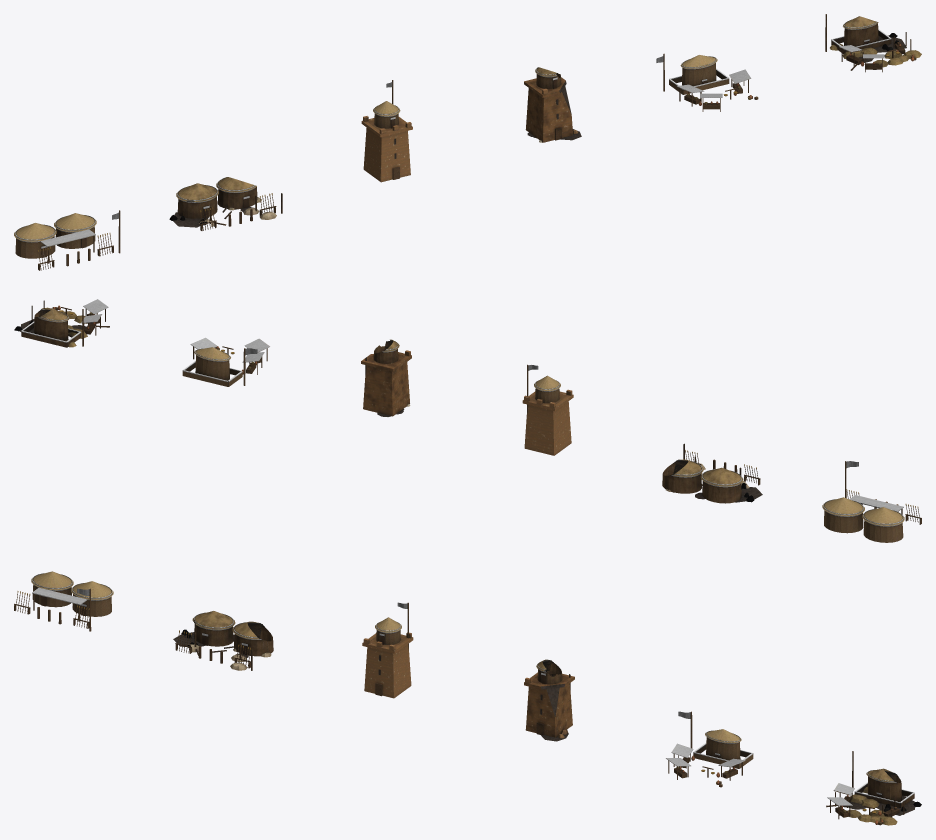
The model's file is rts-bronze-maghreb.glb.
The picture shows the model from 3 angles, top to bottom: view 1: azimuth 30°, elevation 25°; view 2: azimuth 150°, elevation 25°; view 3: azimuth 330°, elevation 25°; orthographic projection.
Visible parts, largest first — view 1: LOD0.001, LOD0, LOD0.002, LOD0.003, LOD0.005, LOD0.004; view 2: LOD0, LOD0.001, LOD0.002, LOD0.003, LOD0.005, LOD0.004; view 3: LOD0.001, LOD0.005, LOD0.002, LOD0.003, LOD0, LOD0.004.
Boxes of the visible parts, <box> form: LOD0.001: <box>169,177,282,230</box>; LOD0: <box>14,210,120,270</box>; LOD0.002: <box>361,80,412,182</box>; LOD0.003: <box>524,67,581,142</box>; LOD0.005: <box>825,14,921,72</box>; LOD0.004: <box>656,53,758,111</box>; LOD0: <box>822,461,921,542</box>; LOD0.001: <box>662,443,762,503</box>; LOD0.002: <box>522,364,573,455</box>; LOD0.003: <box>361,339,411,416</box>; LOD0.005: <box>14,299,109,347</box>; LOD0.004: <box>182,337,269,386</box>; LOD0.001: <box>173,611,273,670</box>; LOD0.005: <box>826,751,921,825</box>; LOD0.002: <box>362,602,413,698</box>; LOD0.003: <box>524,659,574,741</box>; LOD0: <box>14,571,113,631</box>; LOD0.004: <box>666,711,753,787</box>.
Size of what is drawn, in the model's own units: 16.4 by 1.48 by 1.36.
Materials: 2 (2 with a texture image).
